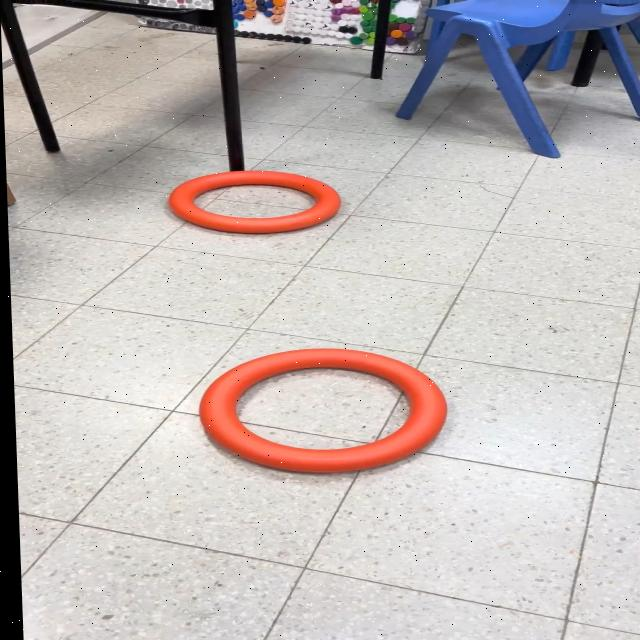note: (191, 346, 449, 476), (162, 169, 343, 236)
